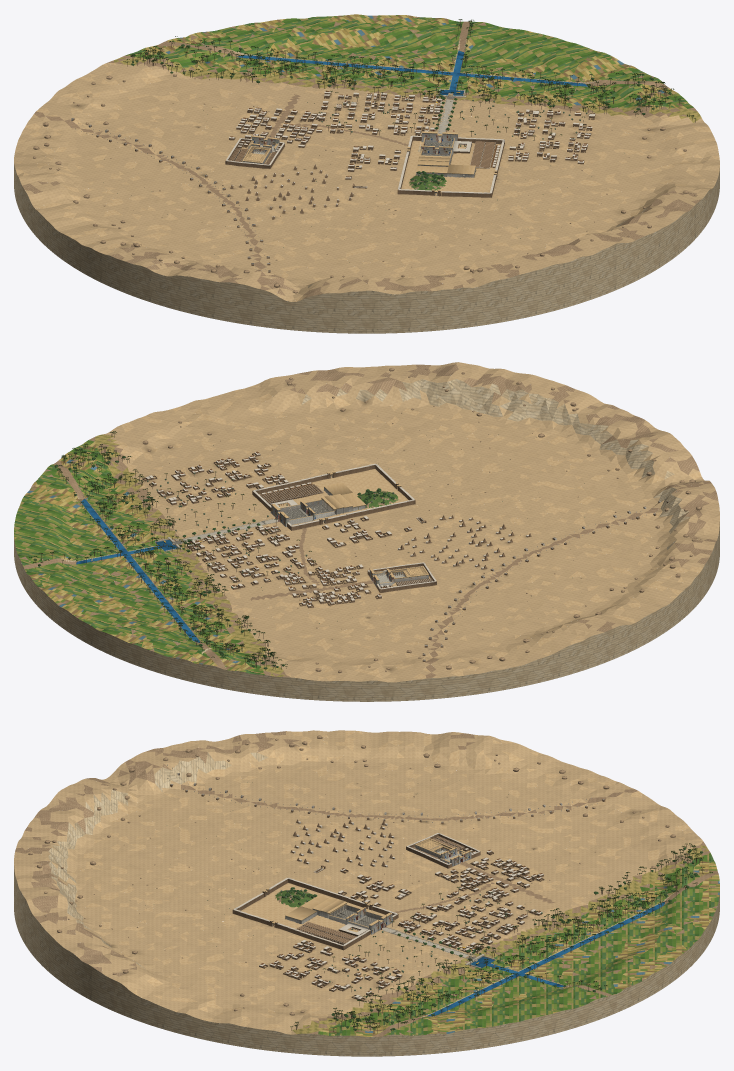
Rendered from abydos.glb.
3 renders of one model, top to bottom at view 1: azimuth 30°, elevation 25°; view 2: azimuth 150°, elevation 25°; view 3: azimuth 270°, elevation 25°, orthographic.
Visible parts, largest first — view 1: terrain, town, trees, land, seti_precinct, temple_seti, temple_ramesses; view 2: terrain, town, trees, seti_precinct, land, temple_seti, temple_ramesses; view 3: terrain, town, trees, seti_precinct, land, temple_seti, temple_ramesses.
Boxes of the visible parts, x1=… form: terrain: x1=14, y1=14, x2=719, y2=333; town: x1=71, y1=91, x2=595, y2=272; trees: x1=123, y1=19, x2=695, y2=188; land: x1=33, y1=50, x2=697, y2=293; seti_precinct: x1=397, y1=88, x2=504, y2=197; temple_seti: x1=416, y1=129, x2=475, y2=177; temple_ramesses: x1=225, y1=134, x2=284, y2=168; terrain: x1=14, y1=362, x2=719, y2=701; town: x1=143, y1=451, x2=676, y2=661; trees: x1=29, y1=431, x2=394, y2=670; seti_precinct: x1=155, y1=463, x2=415, y2=551; land: x1=76, y1=368, x2=701, y2=672; temple_seti: x1=262, y1=482, x2=365, y2=526; temple_ramesses: x1=367, y1=562, x2=436, y2=592; terrain: x1=14, y1=730, x2=719, y2=1056; town: x1=161, y1=764, x2=605, y2=1001; trees: x1=280, y1=843, x2=712, y2=1033; seti_precinct: x1=232, y1=877, x2=495, y2=968; land: x1=28, y1=735, x2=675, y2=1016; temple_seti: x1=285, y1=895, x2=397, y2=934; temple_ramesses: x1=406, y1=833, x2=480, y2=868.
Size of the model in its own units: 1300 by 97.99 by 1300.
55 materials, 55 textured.
